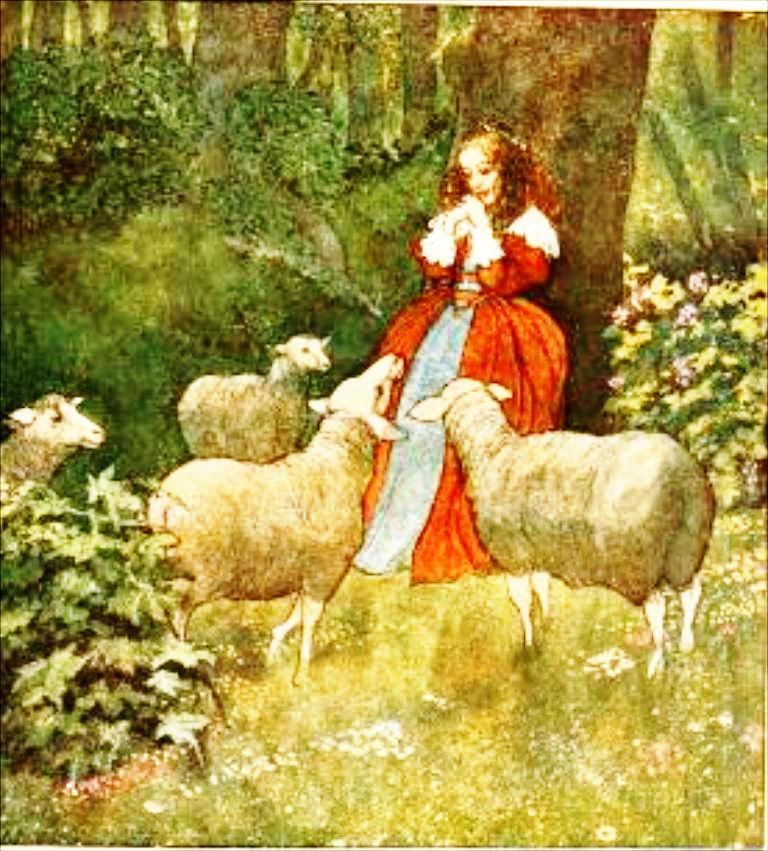Sheep: (406, 372, 718, 676), (145, 334, 423, 648), (172, 334, 332, 464), (0, 395, 109, 509)
